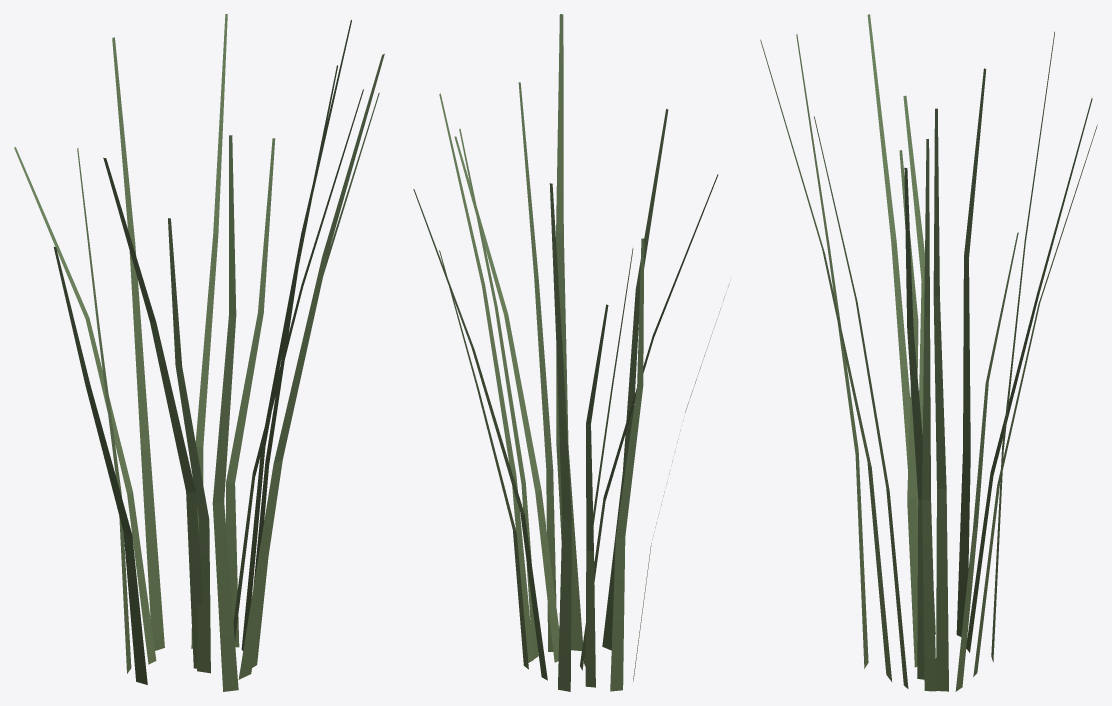
File: shi-daze-wet-field-vegetation-v1-stalk-lod0.fbx
3 renders of one model, left to right at view 1: azimuth 30°, elevation 25°; view 2: azimuth 150°, elevation 25°; view 3: azimuth 270°, elevation 25°, orthographic. The views are drawn at different scales.
Parts seen in each view (by area): view 1: SM_SHI_FieldStalkClump_01_LOD0; view 2: SM_SHI_FieldStalkClump_01_LOD0; view 3: SM_SHI_FieldStalkClump_01_LOD0.
Boxes of the visible parts, x1=… form: SM_SHI_FieldStalkClump_01_LOD0: x1=14, y1=14, x2=384, y2=691; SM_SHI_FieldStalkClump_01_LOD0: x1=413, y1=14, x2=729, y2=691; SM_SHI_FieldStalkClump_01_LOD0: x1=760, y1=14, x2=1097, y2=691.
Bounding box in the file's own units: 68 × 135 × 61.
